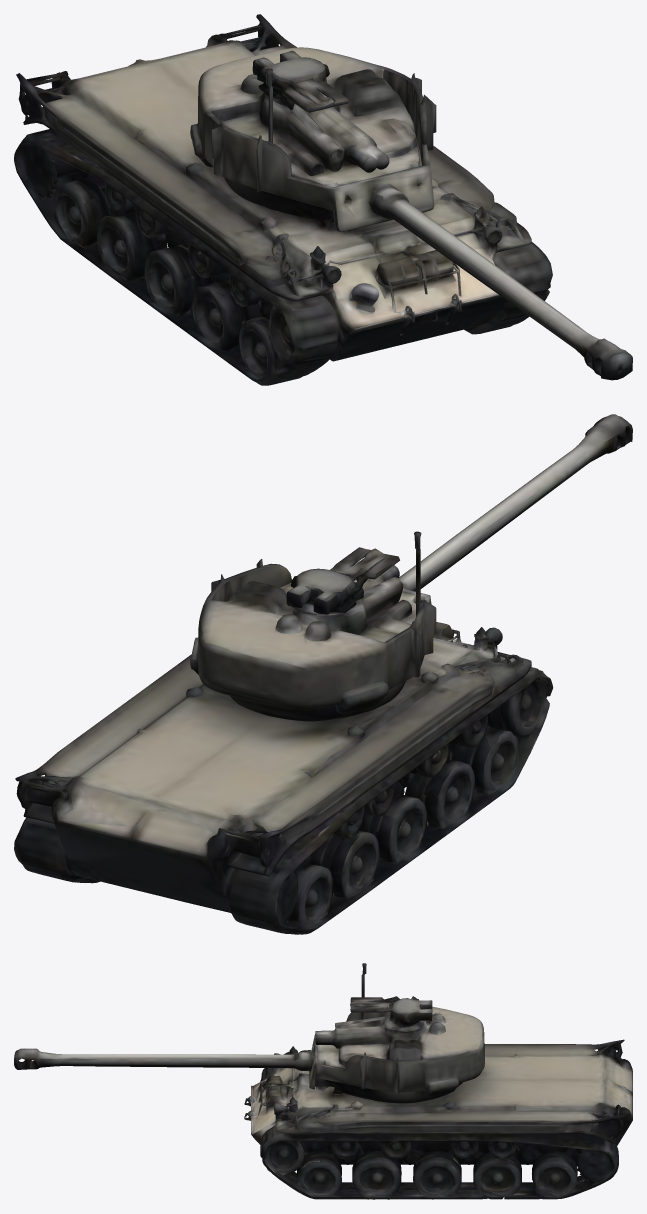
Rendered from sper_opt.glb.
3 renders of one model, top to bottom at view 1: azimuth 30°, elevation 25°; view 2: azimuth 150°, elevation 25°; view 3: azimuth 270°, elevation 25°, orthographic. The views are drawn at different scales.
Visible parts, largest first — view 1: node_0; view 2: node_0; view 3: node_0.
Part boxes in pixels (<box>): node_0: <box>14,14,632,385</box>; node_0: <box>14,414,632,934</box>; node_0: <box>14,963,632,1199</box>.
Size of the model in its own units: 0.3667 by 0.3665 by 1.18.
Materials: 1 (1 with a texture image).
